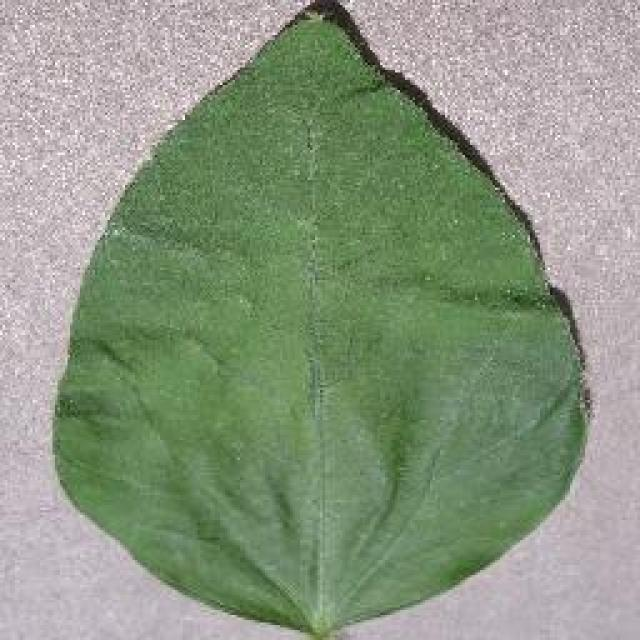Soy_healthy: (94, 73, 565, 560)
